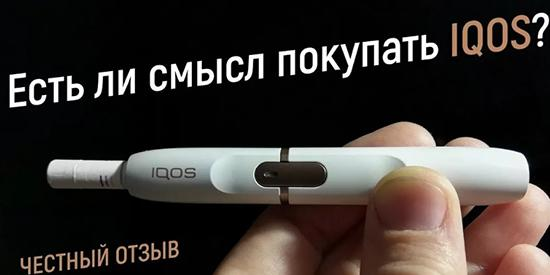iqos: (47, 147, 529, 205)
